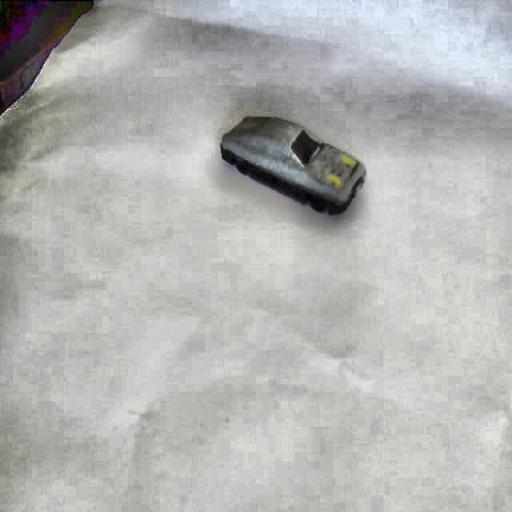normal_car: (219, 112, 367, 217)
